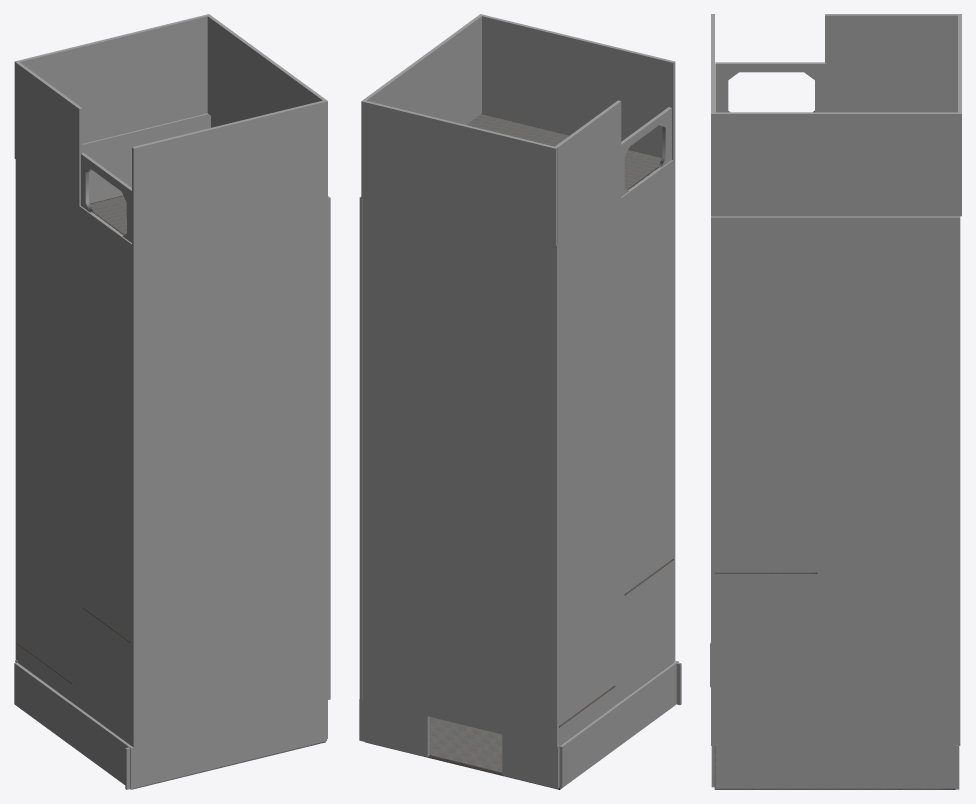
Rendered from sala6.fbx.
The picture shows the model from 3 angles, left to right: view 1: azimuth 30°, elevation 25°; view 2: azimuth 150°, elevation 25°; view 3: azimuth 270°, elevation 25°; orthographic projection. The views are drawn at different scales.
Visible parts, largest first — view 1: pared105, pared106, pasted__pared105, pasted__pared106, pared103, pasted__pared107, pasted__pared108, pared75, pared104, pared107, pared_puerta1, suelo_sala14; view 2: pared104, pared106, pasted__pared106, pasted__pared105, pasted__pared107, pasted__pared108, pared75, suelo_sala5, pared94, suelo_sala14, pared92, pared107 (+2 smaller); view 3: pared107, pasted__pared107, pasted__pared108, pared102, pared_puerta1, pasted__pared106, pasted__pared105, suelo_sala5.
Part boxes in pixels (bbox=[...]): pared105: bbox=[132, 198, 327, 747]; pared106: bbox=[16, 160, 131, 745]; pasted__pared105: bbox=[132, 100, 327, 245]; pasted__pared106: bbox=[14, 14, 210, 159]; pared103: bbox=[125, 700, 326, 789]; pasted__pared107: bbox=[207, 15, 325, 124]; pasted__pared108: bbox=[16, 62, 82, 206]; pared75: bbox=[14, 662, 133, 789]; pared104: bbox=[15, 113, 210, 659]; pared107: bbox=[211, 116, 330, 700]; pared_puerta1: bbox=[81, 152, 131, 242]; suelo_sala14: bbox=[90, 195, 126, 235]; pared104: bbox=[363, 199, 557, 747]; pared106: bbox=[557, 160, 673, 745]; pasted__pared106: bbox=[361, 100, 557, 245]; pasted__pared105: bbox=[479, 14, 675, 159]; pasted__pared107: bbox=[363, 15, 482, 124]; pasted__pared108: bbox=[555, 100, 621, 244]; pared75: bbox=[559, 661, 678, 787]; suelo_sala5: bbox=[365, 693, 631, 789]; pared94: bbox=[359, 699, 429, 757]; suelo_sala14: bbox=[466, 113, 661, 190]; pared92: bbox=[502, 734, 559, 788]; pared107: bbox=[359, 196, 362, 700]; pared107: bbox=[711, 216, 960, 745]; pasted__pared107: bbox=[712, 112, 957, 216]; pasted__pared108: bbox=[825, 14, 957, 112]; pared102: bbox=[715, 746, 955, 788]; pared_puerta1: bbox=[715, 62, 826, 112]; pasted__pared106: bbox=[958, 14, 961, 216]; pasted__pared105: bbox=[711, 14, 714, 216]; suelo_sala5: bbox=[714, 746, 955, 789].
Bounding box in the file's own units: 0.4123 × 1.24 × 0.4178.
